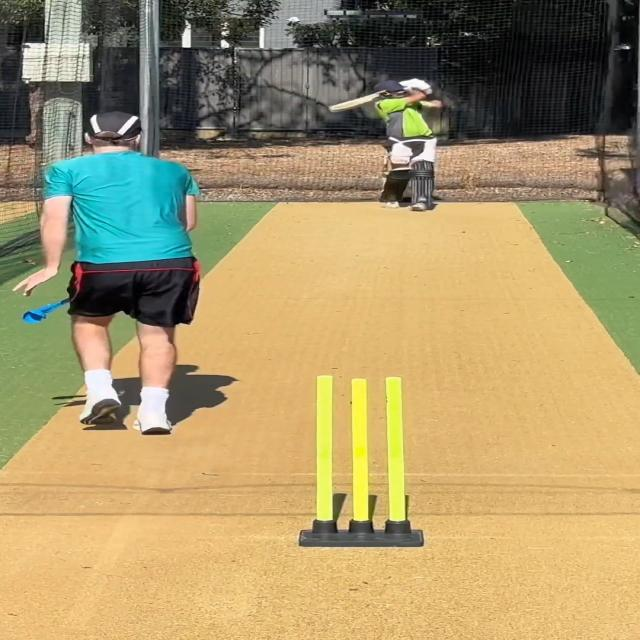stump: (297, 374, 423, 548)
